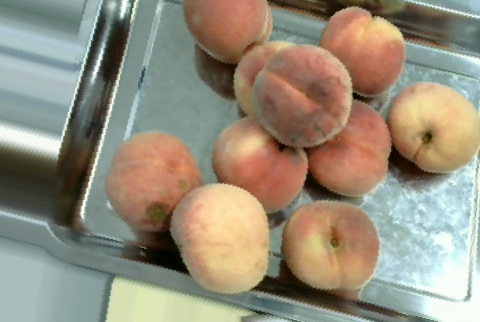Peach: (242, 43, 355, 148), (170, 184, 274, 293), (105, 129, 202, 235), (210, 117, 309, 213), (281, 199, 379, 292), (306, 92, 390, 197), (386, 82, 479, 173), (317, 6, 409, 95), (180, 0, 271, 64)
